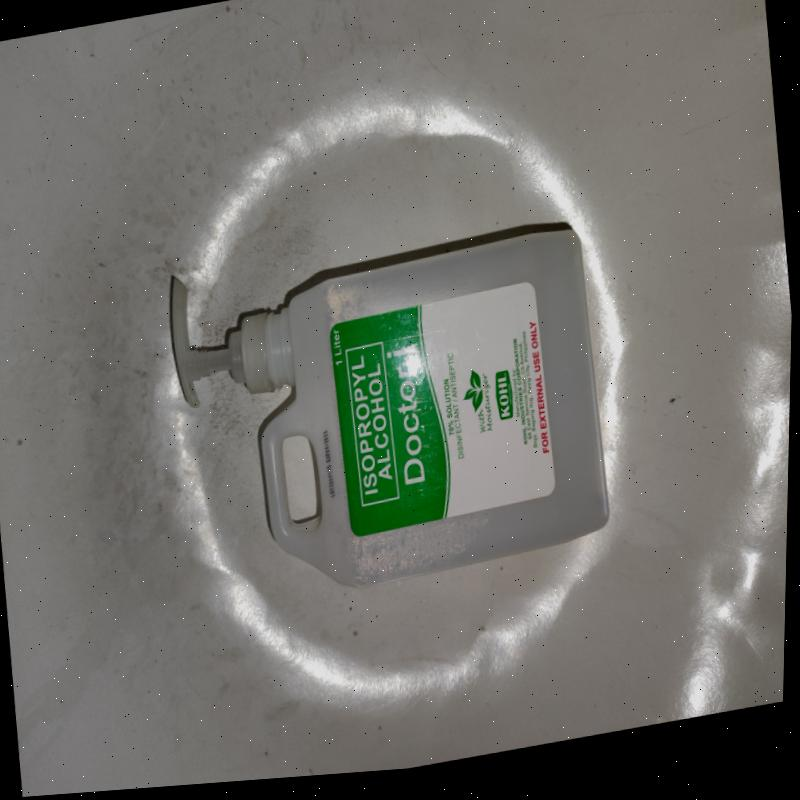plastic bottle: (170, 227, 612, 587)
